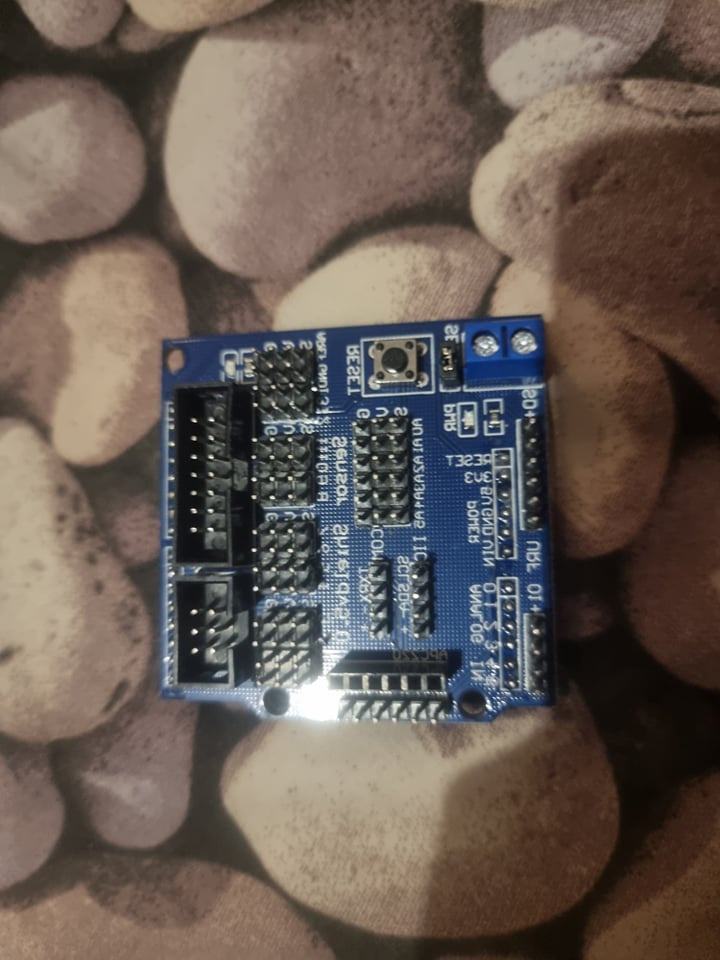5V EXPANSION: (158, 313, 552, 725)
